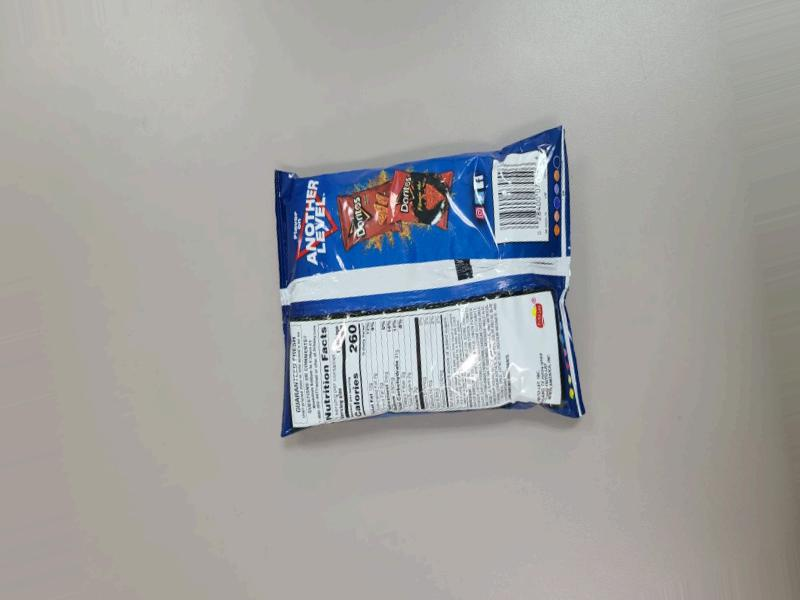doritos: (293, 118, 584, 469)
